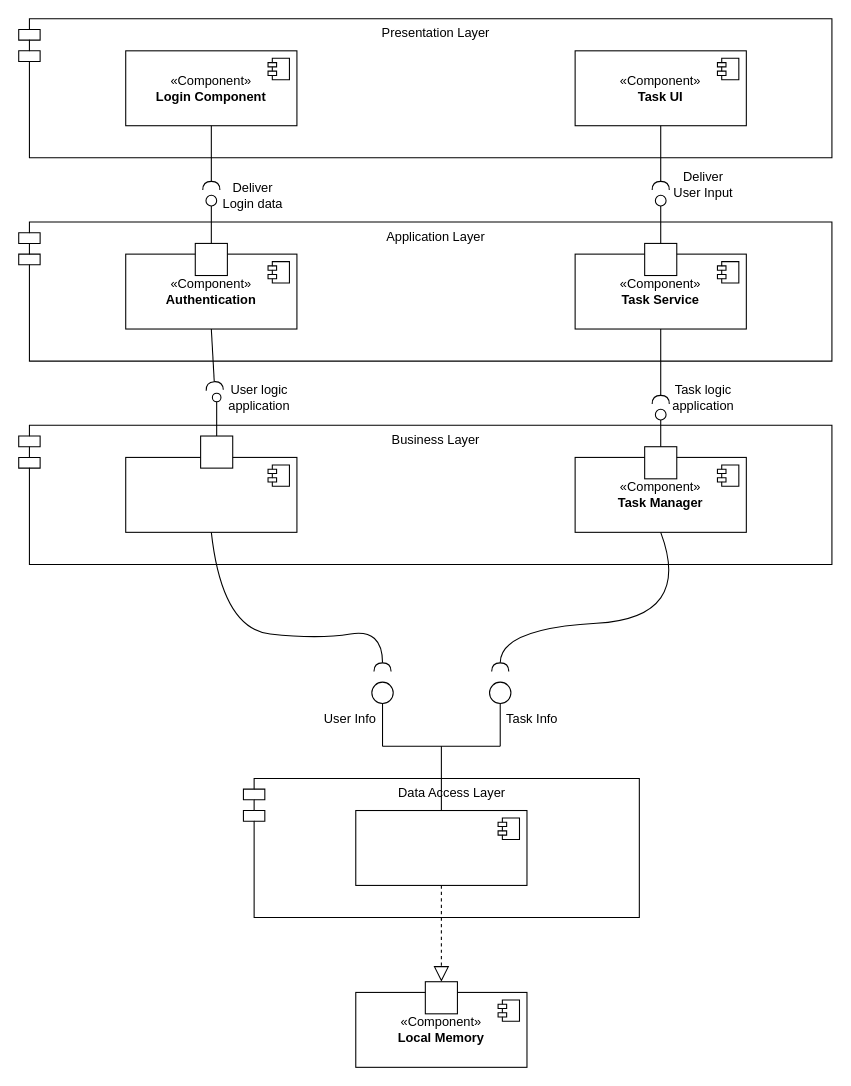
This 851x1086 diagram has some shape labels left out. Each missing label, with the centre of its shape:
port: (440,997)
«Component» Repository: (441,847)
«Component» User Manager: (211,494)
